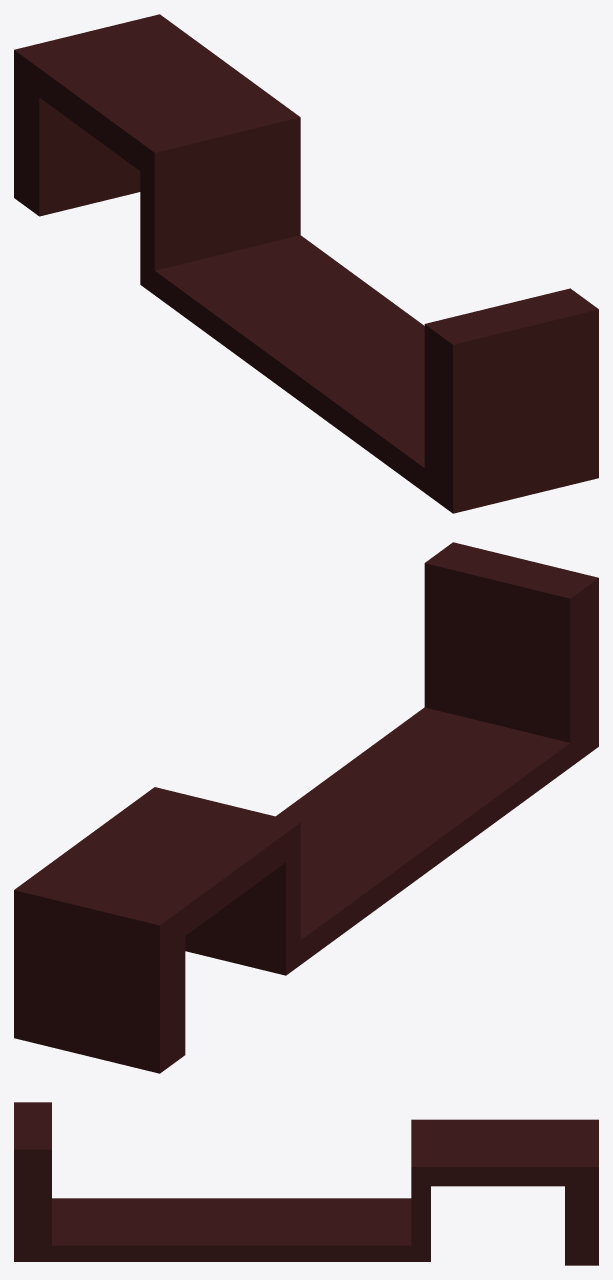
File: repisa_01.fbx
3 views of the same model, one above another, from view 1: azimuth 30°, elevation 25°; view 2: azimuth 150°, elevation 25°; view 3: azimuth 270°, elevation 25° (orthographic). The views are drawn at different scales.
Parts seen in each view (by area): view 1: Repisas_02; view 2: Repisas_02; view 3: Repisas_02.
Part boxes in pixels (box(x1,y1,x2,y2)): Repisas_02: box(14, 14, 598, 513); Repisas_02: box(14, 542, 598, 1073); Repisas_02: box(14, 1102, 598, 1265).
Size of the model in its own units: 10.22 by 11.69 by 53.3.
